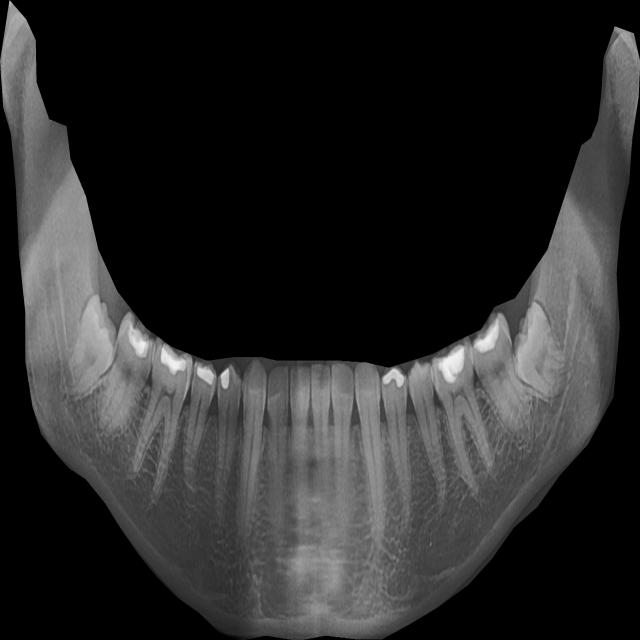mandibula: (0, 0, 640, 640)
